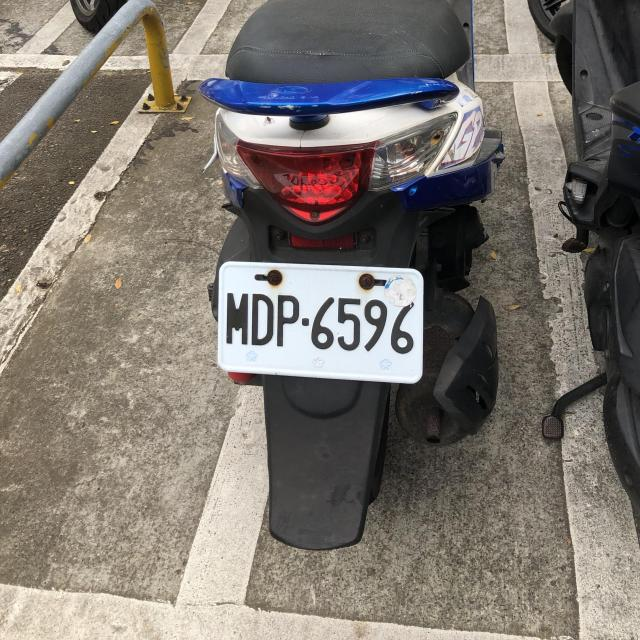W: (215, 261, 424, 383)
